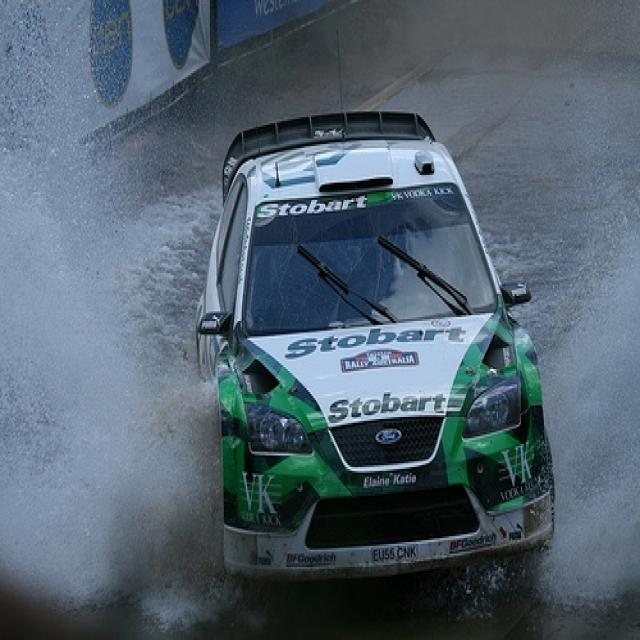car: (193, 98, 561, 594)
